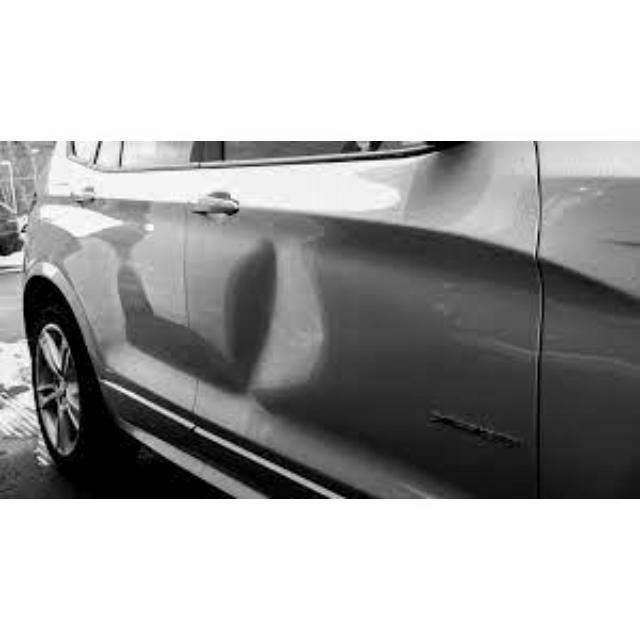doorouter-dent: (187, 214, 376, 423)
